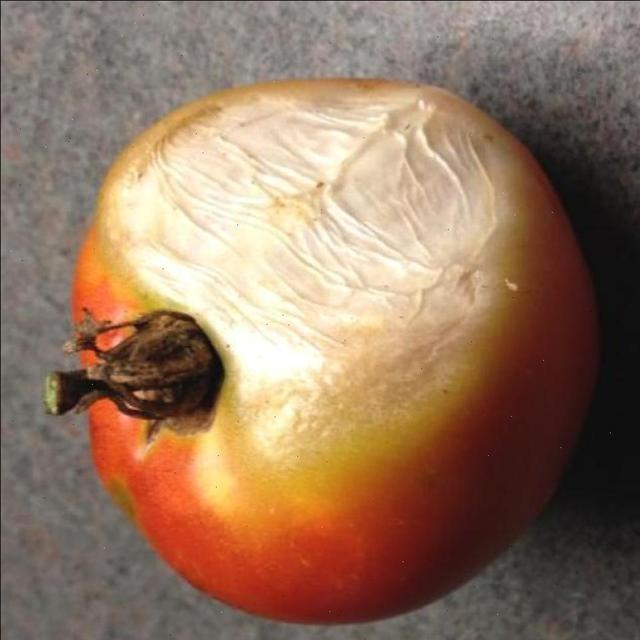Sunscald Fruit: (61, 48, 362, 308)
